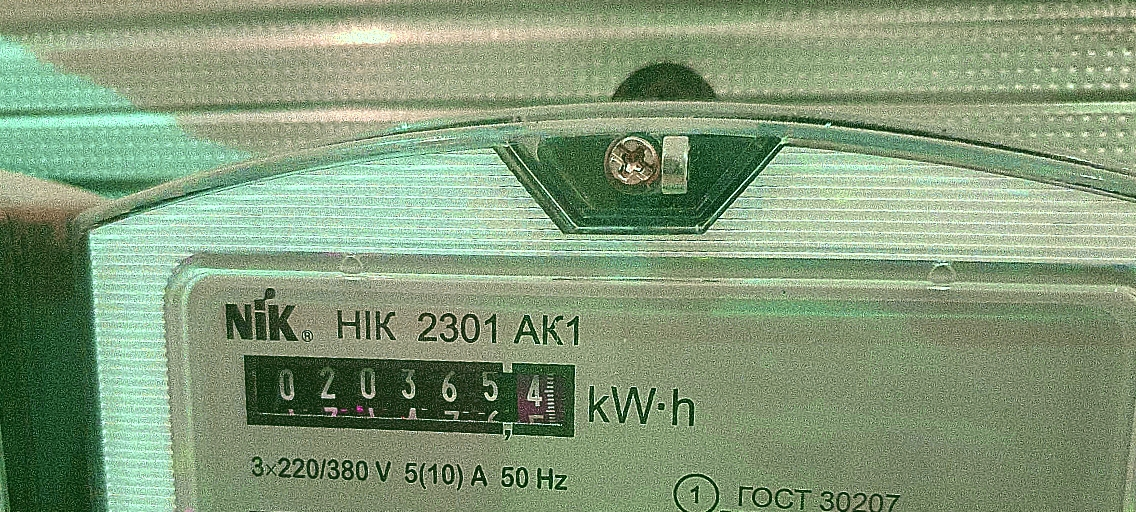0: (275, 365, 298, 401), (357, 364, 379, 401)
2: (314, 363, 339, 400)
3: (398, 364, 419, 400)
4: (524, 371, 545, 407)
5: (479, 368, 501, 402)
6: (438, 366, 460, 403)
screen: (222, 328, 597, 458)
